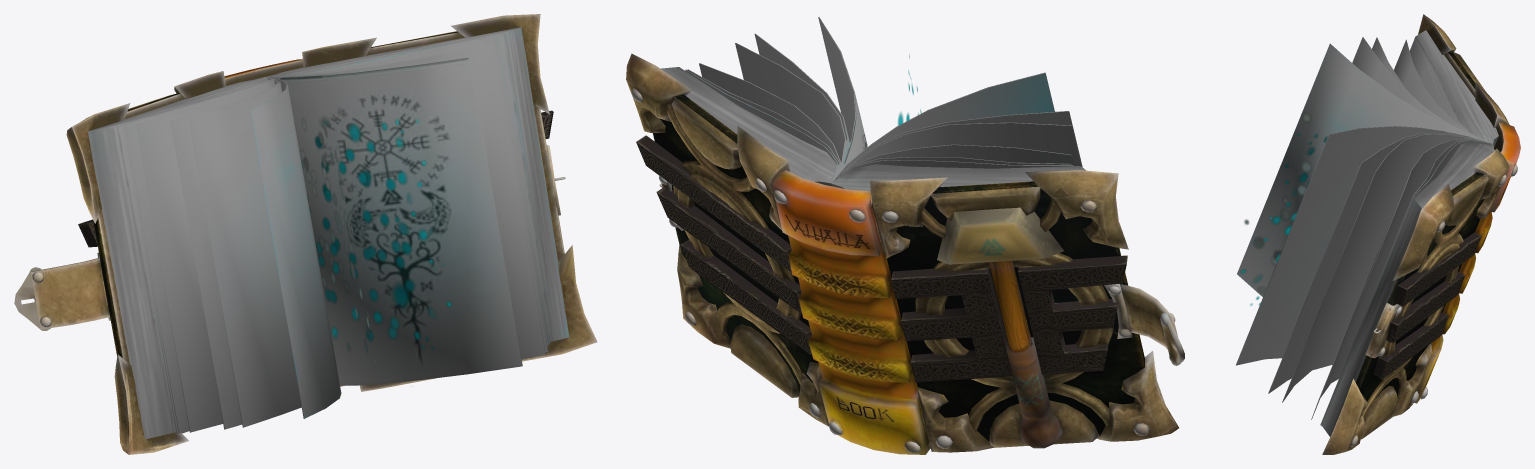
File: sarva-book.glb
3 views of the same model, side by side, from view 1: azimuth 30°, elevation 25°; view 2: azimuth 150°, elevation 25°; view 3: azimuth 270°, elevation 25° (orthographic). The views are drawn at different scales.
Parts seen in each view (by area): view 1: Object_3, Object_2; view 2: Object_2, Object_3; view 3: Object_3, Object_2.
Part boxes in pixels (<box>): Object_3: <box>88,27,568,439</box>; Object_2: <box>14,14,597,454</box>; Object_2: <box>626,53,1184,454</box>; Object_3: <box>661,17,1085,190</box>; Object_3: <box>1236,30,1498,436</box>; Object_2: <box>1322,14,1520,454</box>.
Bounding box in the file's own units: 456 × 292 × 267.
2 materials, 2 textured.
